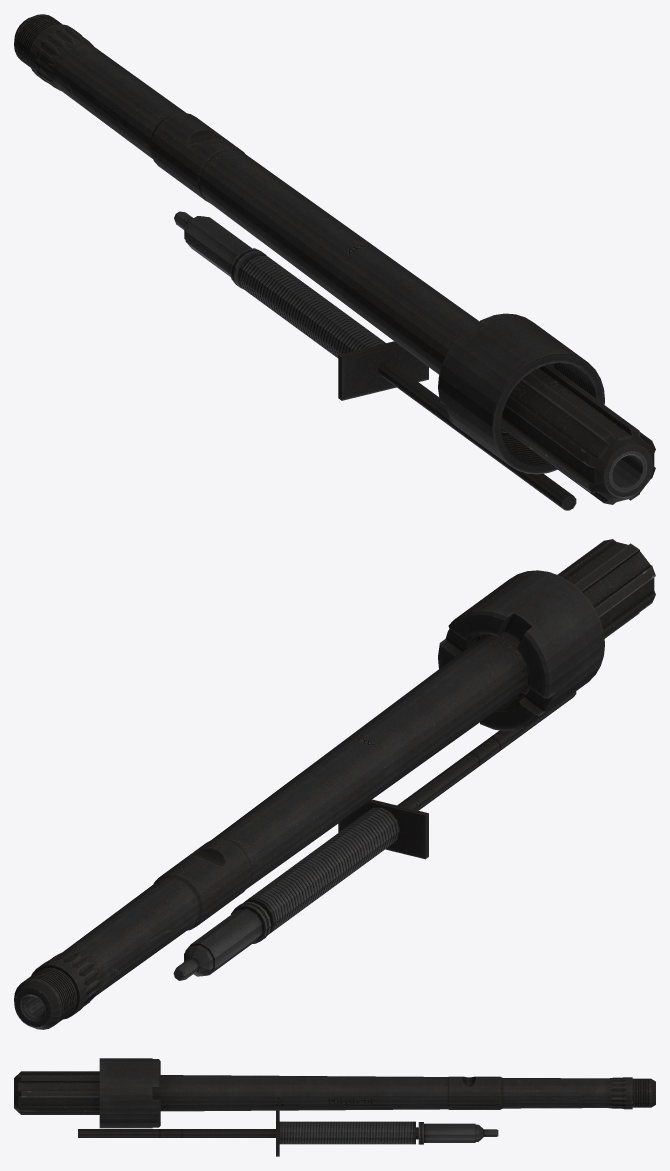
3 renders of one model, top to bottom at view 1: azimuth 30°, elevation 25°; view 2: azimuth 150°, elevation 25°; view 3: azimuth 270°, elevation 25°, orthographic. The views are drawn at different scales.
Visible parts, largest first — view 1: TW_622b3858034a3e17ad0b81f5_PZ_Import; view 2: TW_622b3858034a3e17ad0b81f5_PZ_Import; view 3: TW_622b3858034a3e17ad0b81f5_PZ_Import.
Boxes of the visible parts, x1,y1,x2,y2 form: TW_622b3858034a3e17ad0b81f5_PZ_Import: [14, 14, 655, 510]; TW_622b3858034a3e17ad0b81f5_PZ_Import: [14, 539, 655, 1029]; TW_622b3858034a3e17ad0b81f5_PZ_Import: [14, 1058, 655, 1156].
Bounding box in the file's own units: 0.0202 × 0.185 × 0.0265.
Materials: 1 (1 with a texture image).
